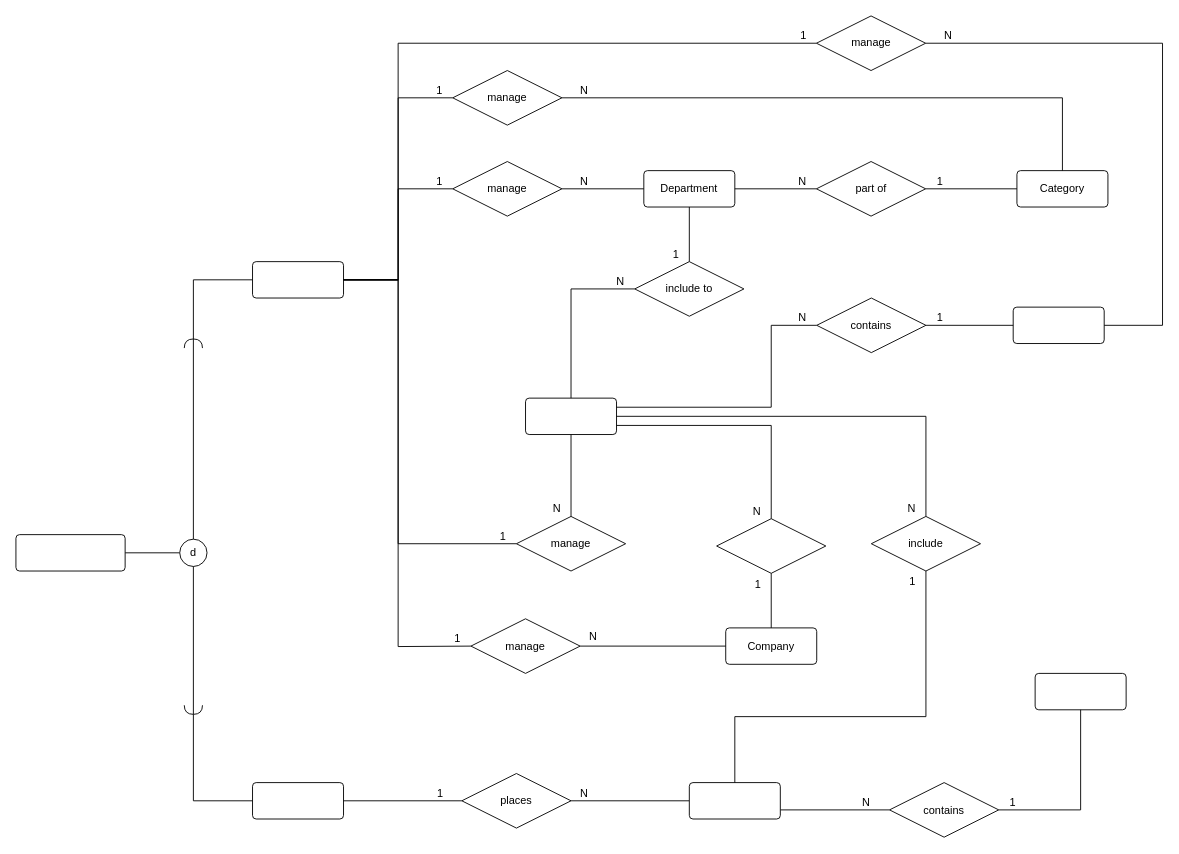
This 1179x854 diagram has some shape labels left out. The centre of each missing label's shape, as x and y in pixels:
"Admin" goes at point 298,279.
"Customer" goes at point 298,800.
"Order" goes at point 1080,691.
"Order_Details" goes at point 734,800.
"produce" goes at point 771,545.
"Product" goes at point 571,416.
"Stock" goes at point 1058,325.
"User" goes at point 70,552.
